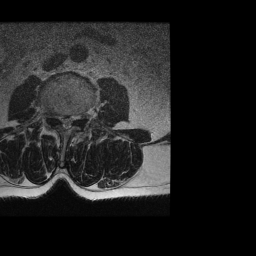CCS_normal: (63, 108, 68, 134)
LFS_normal: (74, 105, 81, 125)
LLS_normal: (68, 108, 74, 130)
RFS_stenosis: (52, 106, 58, 123)
RLS_normal: (58, 108, 63, 128)
